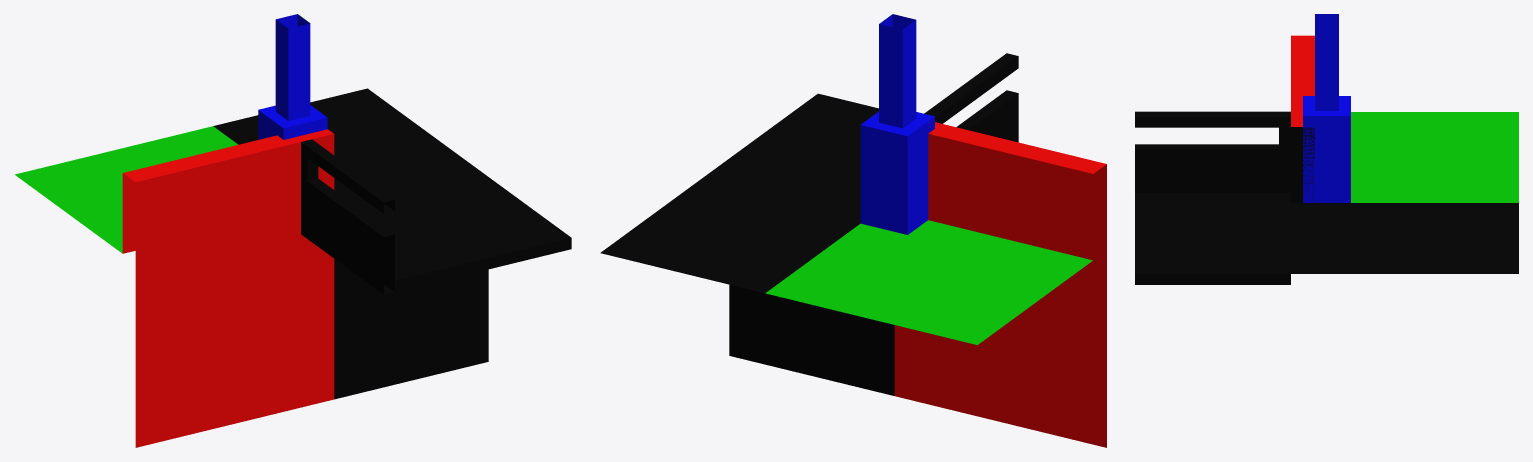
File: None_W_P_E_E_W_E_E_E_BigStrut.fbx
3 renders of one model, left to right at view 1: azimuth 30°, elevation 25°; view 2: azimuth 150°, elevation 25°; view 3: azimuth 270°, elevation 25°, orthographic. The views are drawn at different scales.
Parts seen in each view (by area): view 1: None_W_P_E_E_W_E_E_E_BigStrut; view 2: None_W_P_E_E_W_E_E_E_BigStrut; view 3: None_W_P_E_E_W_E_E_E_BigStrut.
Part boxes in pixels (x1,y1,x2,y2): None_W_P_E_E_W_E_E_E_BigStrut: (15, 14, 571, 447); None_W_P_E_E_W_E_E_E_BigStrut: (600, 14, 1106, 447); None_W_P_E_E_W_E_E_E_BigStrut: (1135, 14, 1518, 284).
Bounding box in the file's own units: 100 × 100 × 100.
